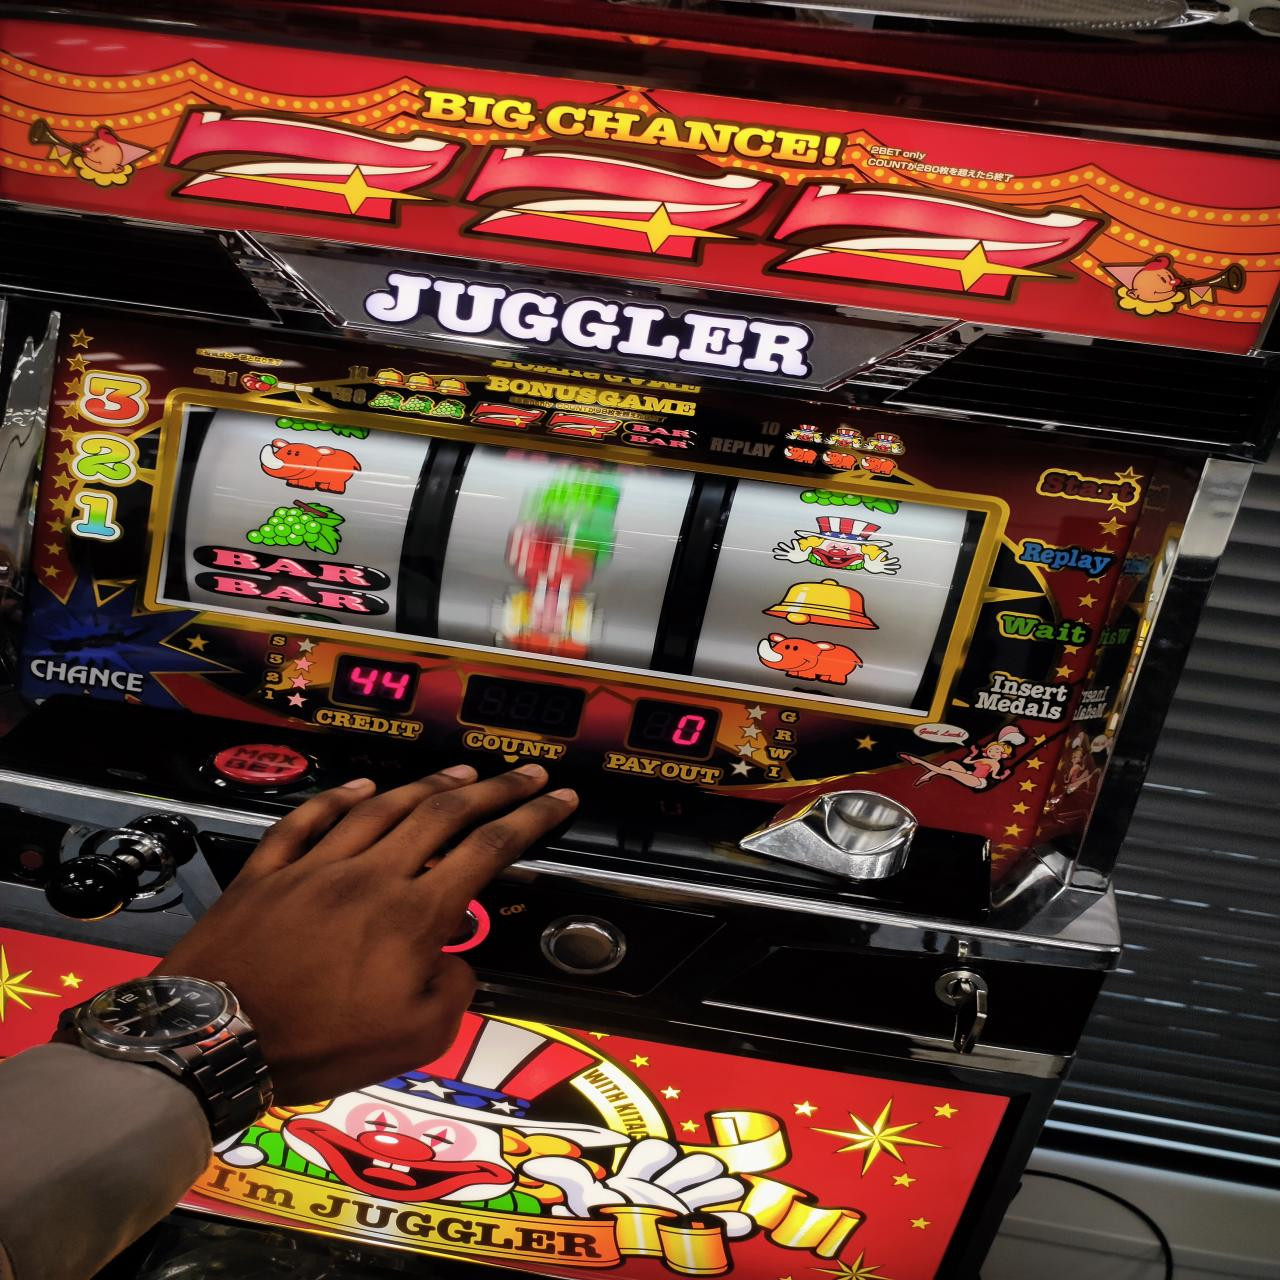8: (756, 632, 864, 692), (258, 437, 370, 492)
bar: (190, 545, 393, 618)
bell: (761, 579, 885, 632)
clown: (774, 517, 904, 576)
grape: (244, 498, 352, 553)
rhino: (155, 397, 978, 709)
